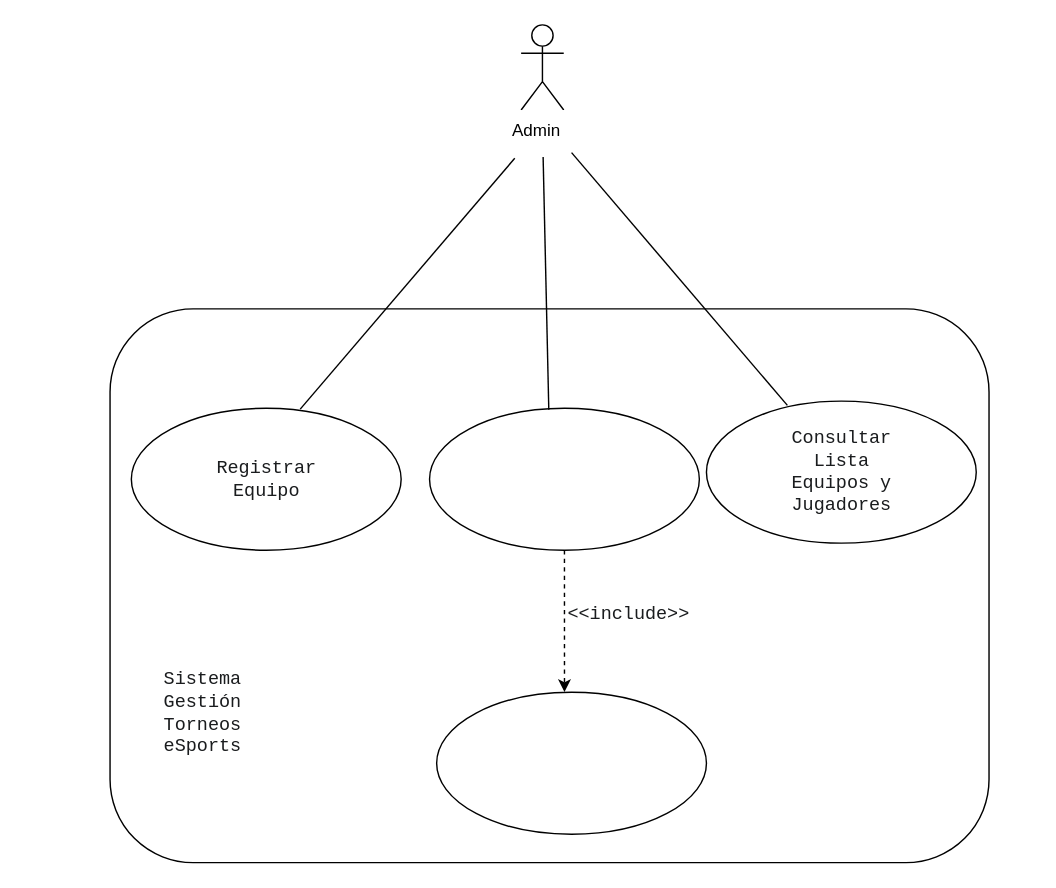
Some shapes in this 1056 by 888 pixel diagram are drawn without their labels. Each missing label, with the box of its shape:
Añadir Jugador a Equipo: (428, 407, 699, 550)
Seleccionar Equipo: (435, 691, 706, 834)
